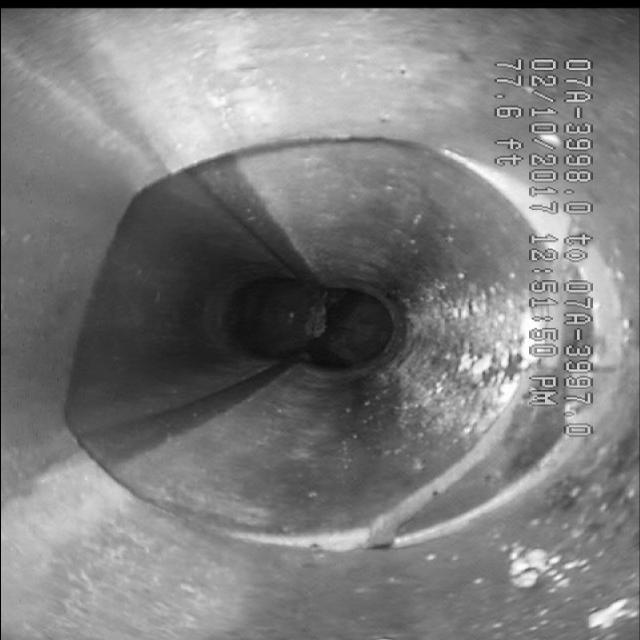Fracture: (356, 420, 567, 550)
